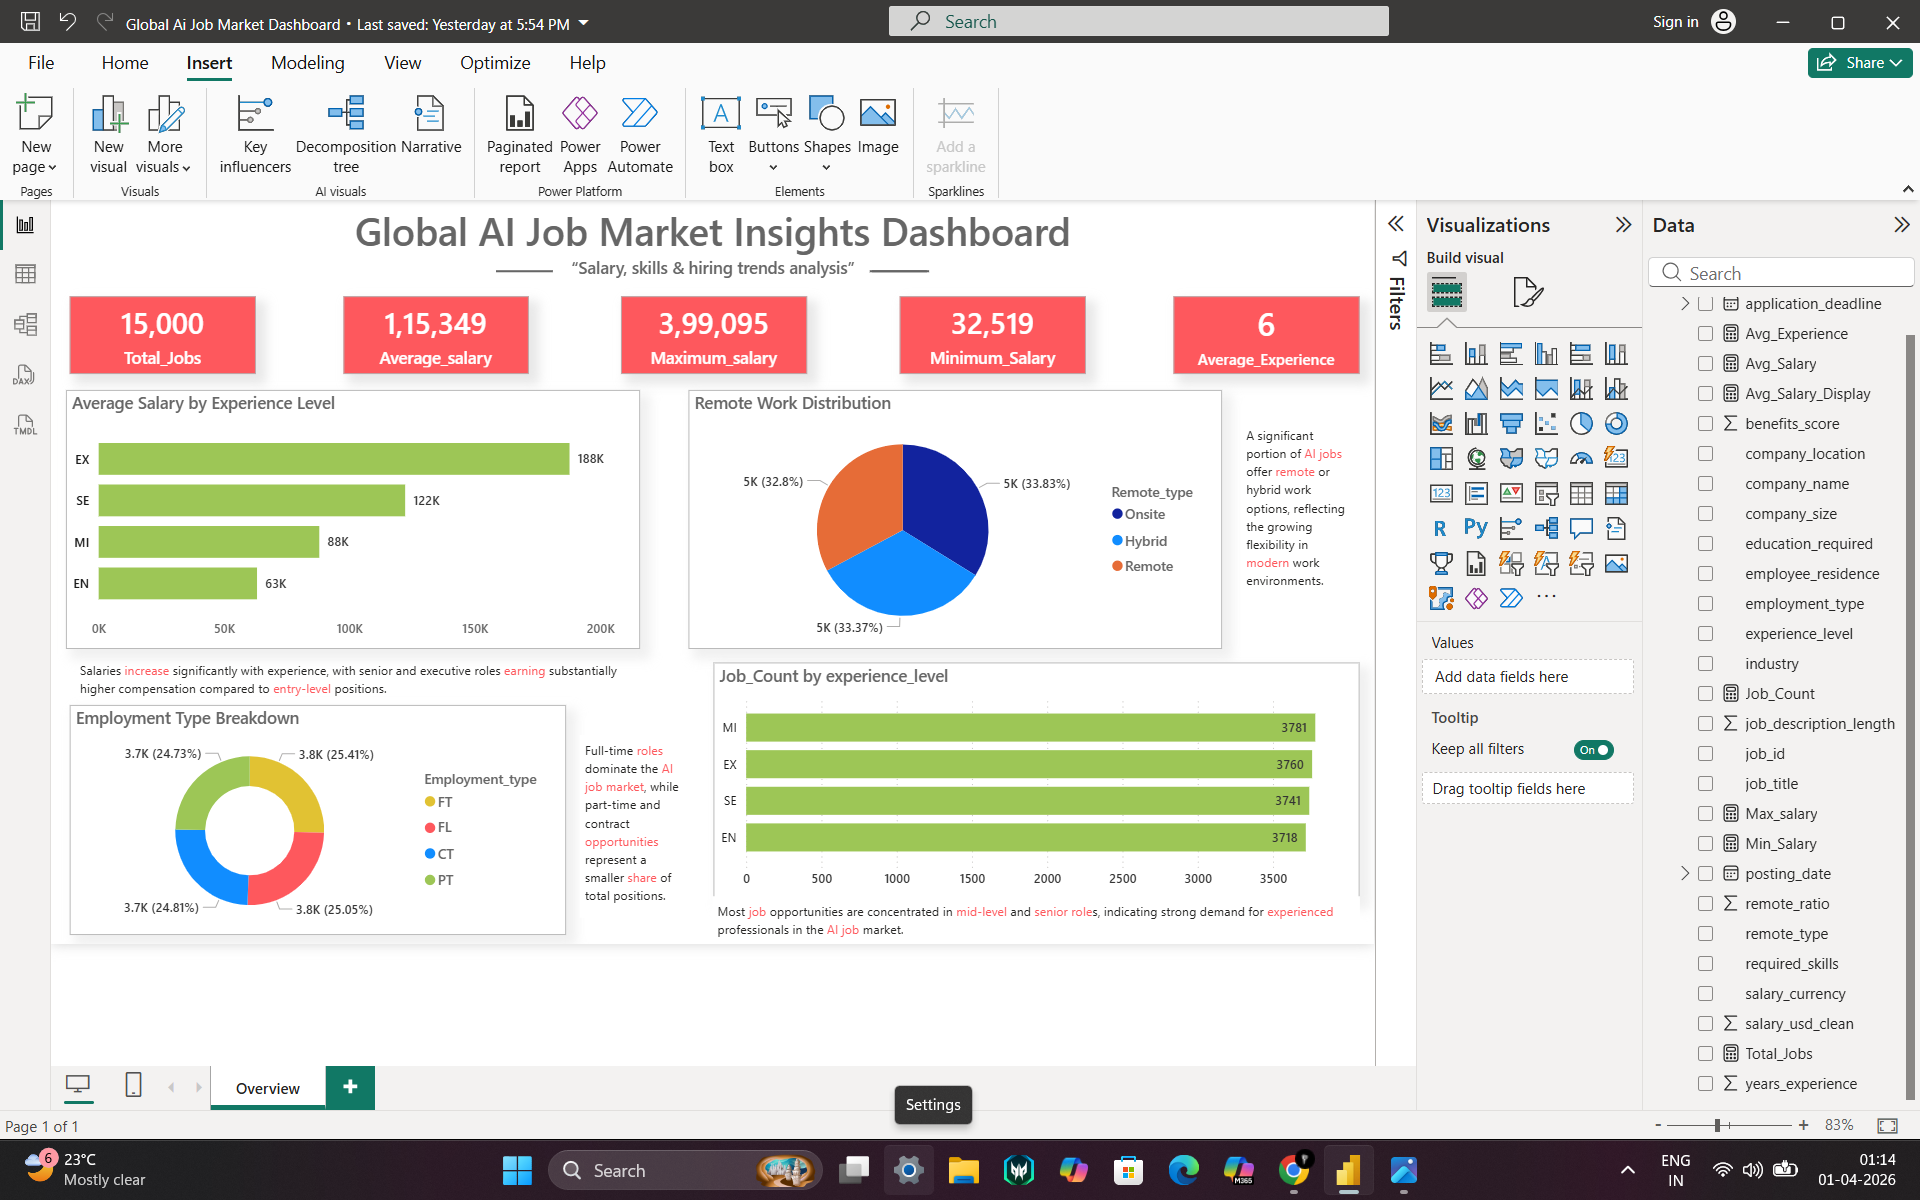

The dashboard page shown, as its layout file describes it:
{"tool":"powerbi","page":{"name":"Overview","canvas":[1280,720],"ordinal":0},"visuals":[{"type":"textbox","box":[62.9,0,1154.5,93.1],"z":0},{"type":"shape","box":[790,32.5,27.5,72.5],"z":1000},{"type":"shape","box":[465,31.2,27.5,72.5],"z":2000},{"type":"card","fields":{"Values":["ai_job_dataset.Total_Jobs"]},"box":[18.1,93.1,180.1,75],"z":3000},{"type":"card","fields":{"Values":["ai_job_dataset.Avg_Experience"]},"box":[1085.6,93.1,180.1,75],"z":5000},{"type":"card","fields":{"Values":["ai_job_dataset.Max_salary"]},"box":[551.3,93.1,180.1,75],"z":6000},{"type":"card","fields":{"Values":["ai_job_dataset.Avg_Salary"]},"box":[283.5,93.1,178.9,75],"z":7000},{"type":"card","fields":{"Values":["ai_job_dataset.Min_Salary"]},"box":[820.3,93.1,180.1,75],"z":8000},{"type":"clusteredBarChart","title":"Average Salary by Experience Level","fields":{"Category":["ai_job_dataset.experience_level"],"Y":["ai_job_dataset.Avg_Salary"]},"box":[15,183.8,572.5,250],"z":9000},{"type":"textbox","box":[23,440,553.7,65.3],"z":10000},{"type":"donutChart","title":"Remote Work Distribution","fields":{"Category":["ai_job_dataset.remote_type"],"Y":["ai_job_dataset.Job_Count"]},"box":[598.4,183.8,534.3,250.2],"z":11000},{"type":"textbox","box":[1150.9,212.8,106.4,334.9],"z":12000},{"type":"donutChart","title":"Employment Type Breakdown","fields":{"Category":["ai_job_dataset.employment_type"],"Y":["ai_job_dataset.Job_Count"]},"box":[18.1,488.4,479.9,222.4],"z":13000},{"type":"textbox","box":[511.4,517.4,105.2,176.5],"z":14000},{"type":"clusteredBarChart","title":"Job Distribution by Experience Level","fields":{"Y":["ai_job_dataset.Job_Count"],"Category":["ai_job_dataset.experience_level"]},"box":[641.2,445,625,228.8],"z":15000},{"type":"textbox","box":[640,672.5,626.2,47.5],"z":16000}]}

Visuals, with their boxes on the page's 1280x720 design canvas (x1, y1, x2, y2). These are canvas units, not pixel positions in the 1920x1200 screenshot, which may show the page scaled, cropped or inside an application window:
textbox: [63, 0, 1217, 93]
shape: [790, 32, 818, 105]
shape: [465, 31, 492, 104]
card - ai_job_dataset.Total_Jobs: [18, 93, 198, 168]
card - ai_job_dataset.Avg_Experience: [1086, 93, 1266, 168]
card - ai_job_dataset.Max_salary: [551, 93, 731, 168]
card - ai_job_dataset.Avg_Salary: [284, 93, 462, 168]
card - ai_job_dataset.Min_Salary: [820, 93, 1000, 168]
"Average Salary by Experience Level" clusteredBarChart: [15, 184, 588, 434]
textbox: [23, 440, 577, 505]
"Remote Work Distribution" donutChart: [598, 184, 1133, 434]
textbox: [1151, 213, 1257, 548]
"Employment Type Breakdown" donutChart: [18, 488, 498, 711]
textbox: [511, 517, 617, 694]
"Job Distribution by Experience Level" clusteredBarChart: [641, 445, 1266, 674]
textbox: [640, 672, 1266, 720]
